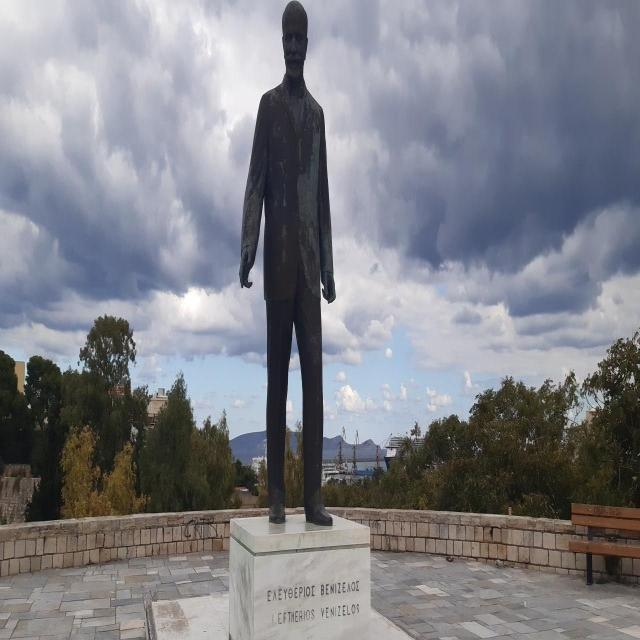Venizelos: (240, 1, 340, 529)
